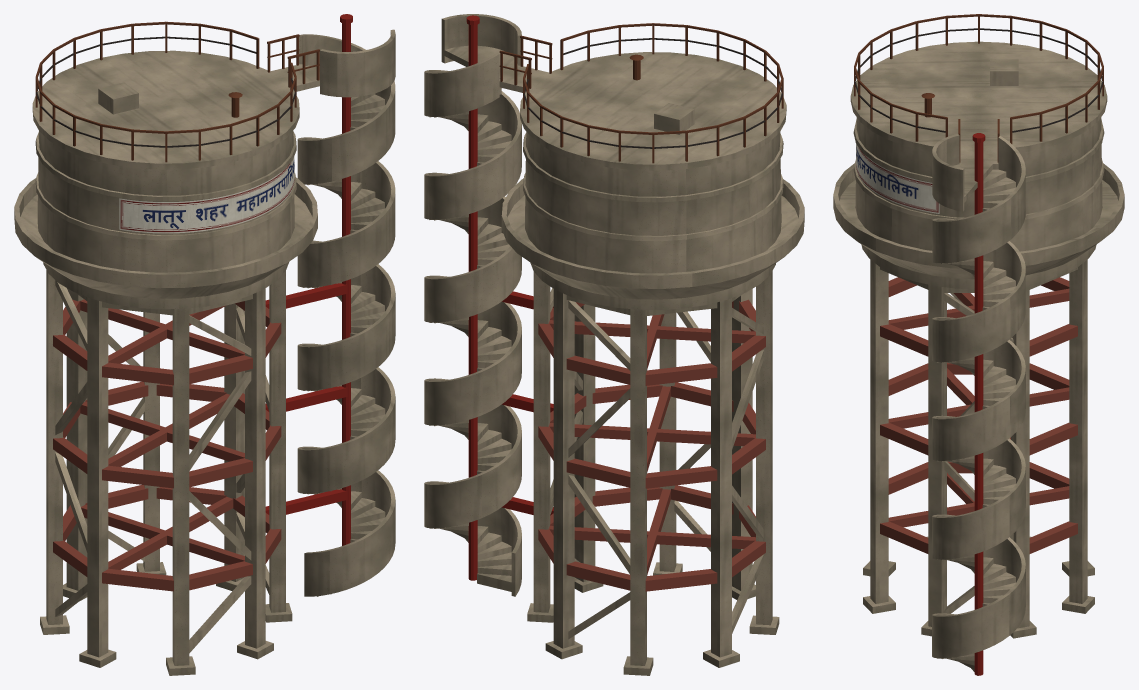
Rendered from water_tower.opt.glb.
3 renders of one model, left to right at view 1: azimuth 30°, elevation 25°; view 2: azimuth 150°, elevation 25°; view 3: azimuth 270°, elevation 25°, orthographic. The views are drawn at different scales.
Parts seen in each view (by area): view 1: WaterTower_LOD0; view 2: WaterTower_LOD0; view 3: WaterTower_LOD0.
Part boxes in pixels (bbox=[...]): WaterTower_LOD0: bbox=[14, 14, 395, 675]; WaterTower_LOD0: bbox=[424, 14, 804, 675]; WaterTower_LOD0: bbox=[833, 14, 1124, 675].
Size of what is drawn, in the model's own units: 12.38 by 19.01 by 9.2.
3 materials, 3 textured.
